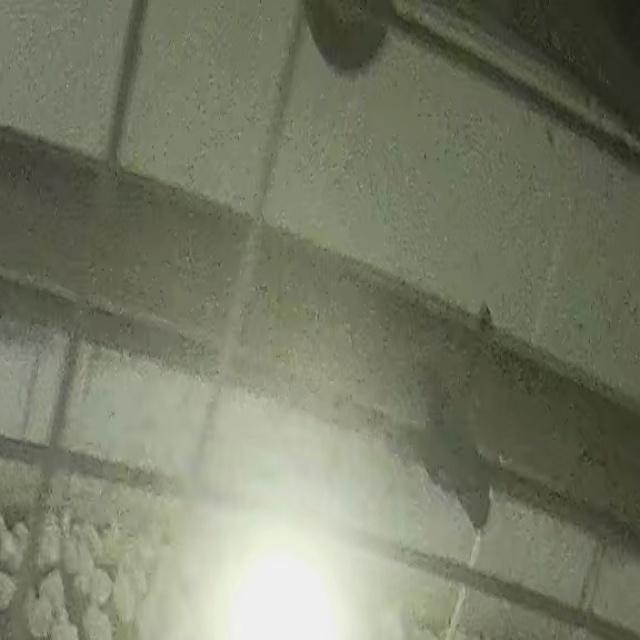chicken: (114, 563, 136, 625), (23, 586, 50, 636), (0, 516, 23, 574), (83, 594, 112, 640), (76, 568, 110, 607), (38, 518, 58, 569), (40, 568, 63, 610), (61, 525, 78, 573), (48, 609, 74, 640), (0, 571, 18, 613)
